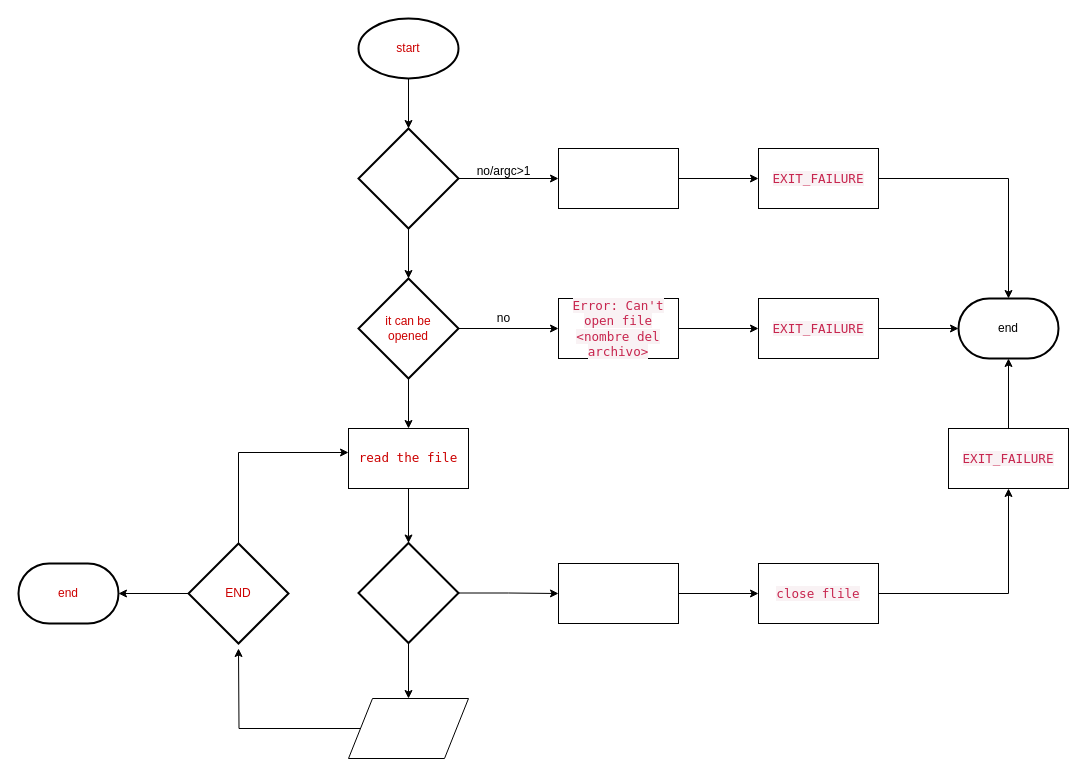
This 1086x776 diagram has some shape labels left out. The shapes that lost their labels are listed below. From the top down, each one's box as (x1, y1, x2, y2) in pixels, then its label:
(357, 127, 459, 229): argc
(558, 148, 678, 208): USAGE: monty file
(357, 542, 459, 644): unknown instruction found
(558, 562, 678, 624): L<#donde falta la instruccion>: unknown instruction <opcode>
(348, 698, 468, 758): execute instruction
